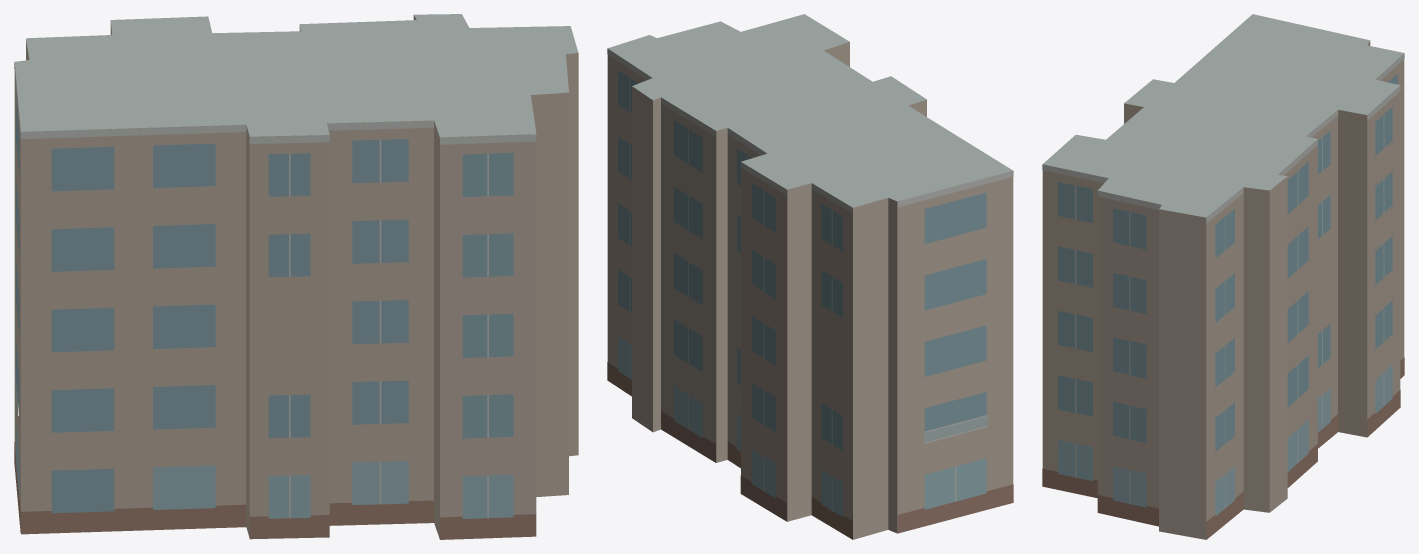
The model's file is survey-upis-33025455.glb.
3 renders of one model, left to right at view 1: azimuth 30°, elevation 25°; view 2: azimuth 150°, elevation 25°; view 3: azimuth 270°, elevation 25°, orthographic. The views are drawn at different scales.
Parts seen in each view (by area): view 1: survey-upis-33025455.tmp; view 2: survey-upis-33025455.tmp; view 3: survey-upis-33025455.tmp.
Boxes of the visible parts, left/top/right/bottom form: survey-upis-33025455.tmp: left=14, top=14, right=578, bottom=539; survey-upis-33025455.tmp: left=607, top=14, right=1013, bottom=539; survey-upis-33025455.tmp: left=1042, top=14, right=1404, bottom=539.
Bounding box in the file's own units: 18.16 × 13.4 × 13.65.
